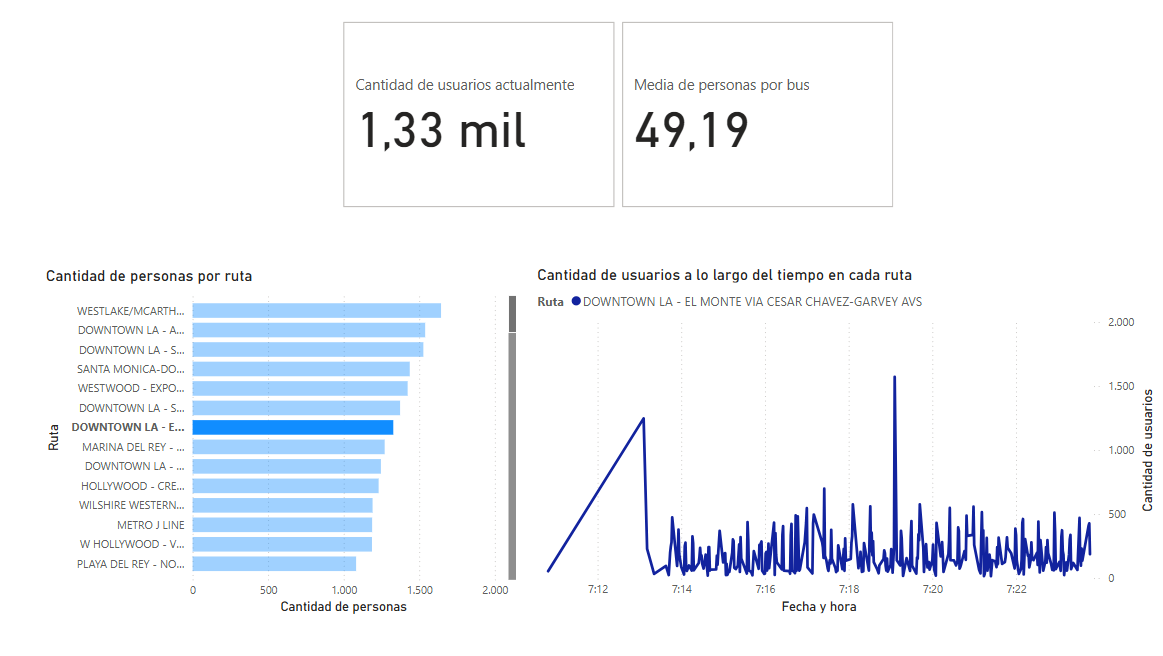

This screenshot's page, from the dashboard's own definition file:
{"tool":"powerbi","page":{"name":"Información sobre usuarios","canvas":[1280,720],"ordinal":1},"visuals":[{"type":"cardVisual","fields":{"Data":["Sum(vehicles.amount_people)","vehicles.Total Buses","select"]},"box":[373.2,18.7,613.3,214],"z":0},{"type":"clusteredBarChart","title":"Cantidad de personas por ruta","fields":{"Category":["routes.route_desc"],"Y":["Sum(vehicles.amount_people)"]},"box":[46.7,291.7,525,386.7],"z":1000},{"type":"lineChart","title":"Cantidad de usuarios a lo largo del tiempo en cada ruta","fields":{"Category":["historial_usuarios.timestamp"],"Y2":["Sum(historial_usuarios.amount_people)"],"Series":["routes.route_desc"]},"box":[584.7,291.1,686.7,386.9],"z":2000}]}

Visuals, with their boxes in screenshot pixels (x1, y1, x2, y2), scaled from the page's 1280x720 canvas onto the 1163x656 screenshot:
cardVisual - Sum(vehicles.amount_people) x vehicles.Total Buses: l=339, t=17, r=896, b=212
"Cantidad de personas por ruta" clusteredBarChart: l=42, t=266, r=519, b=618
"Cantidad de usuarios a lo largo del tiempo en cada ruta" lineChart: l=531, t=265, r=1155, b=618
